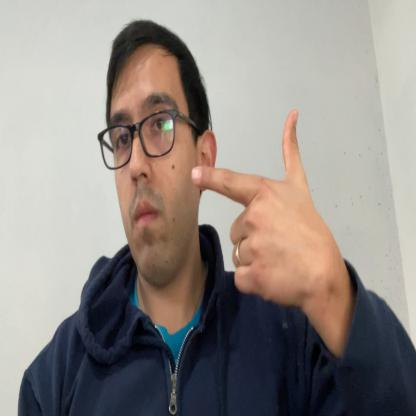G: (192, 108, 315, 308)
